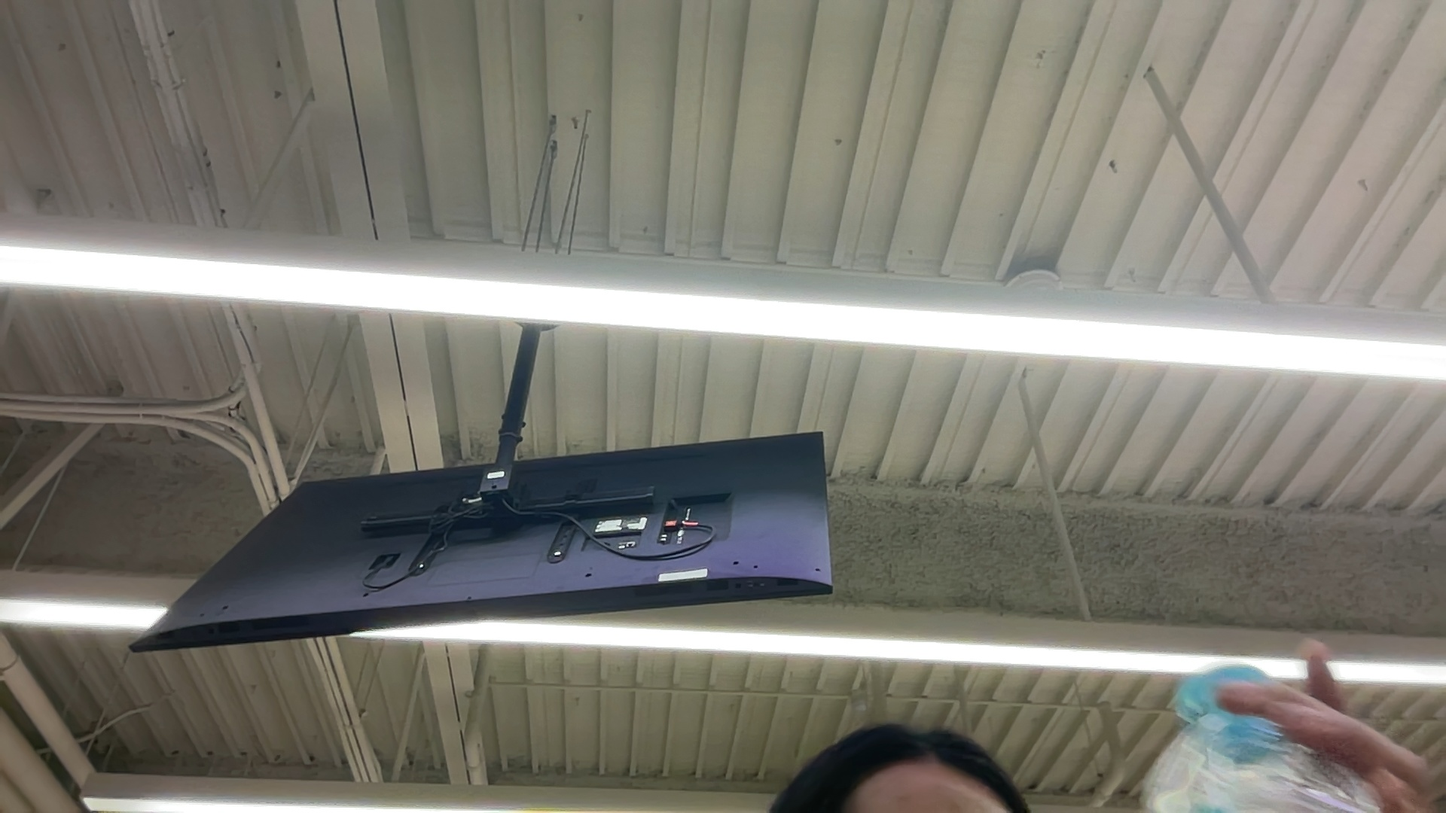Plastic: (1142, 657, 1442, 813)
